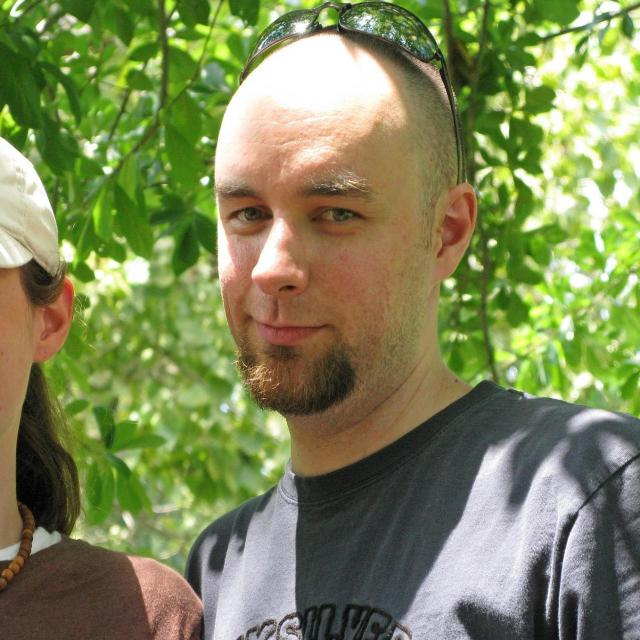no-glass: (222, 200, 365, 237)
